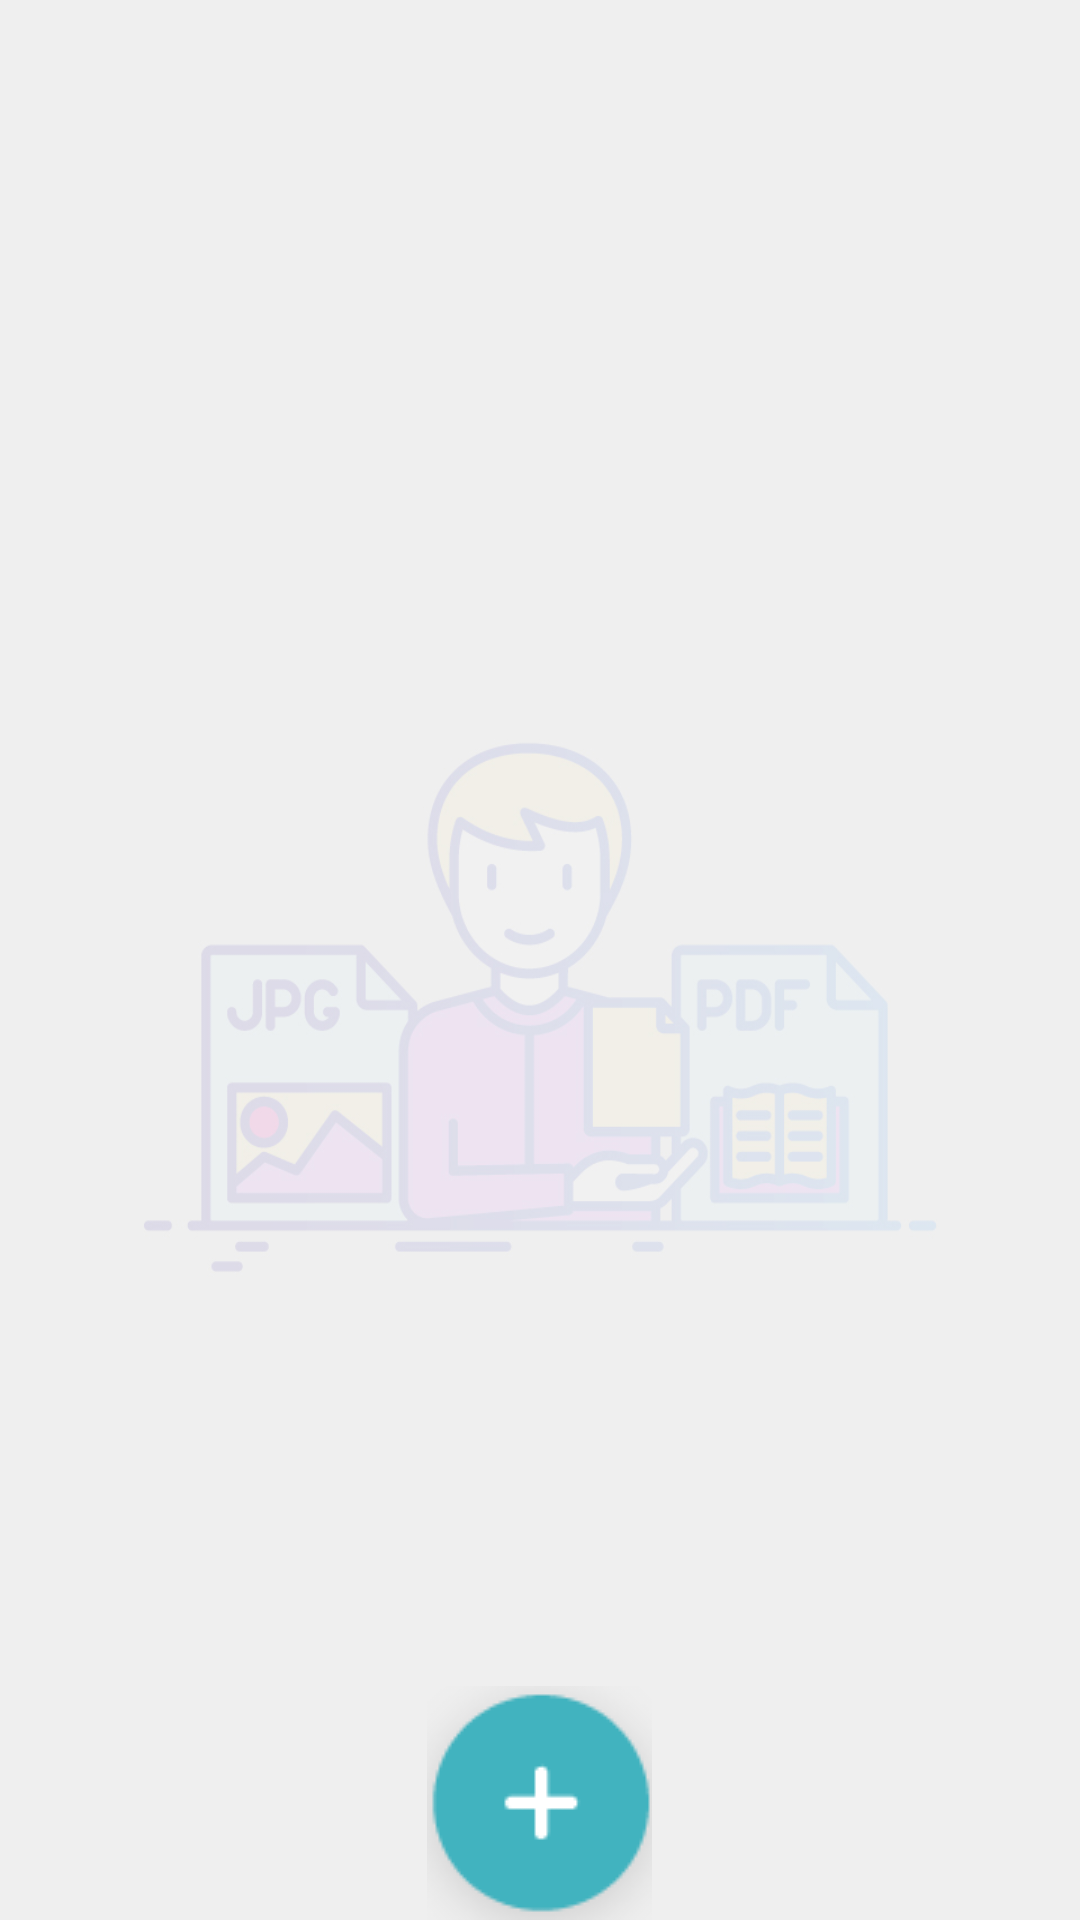

Where to tap for icons on this 1080 x 1920 app screen, as (x,y):
add: (541,1803)
